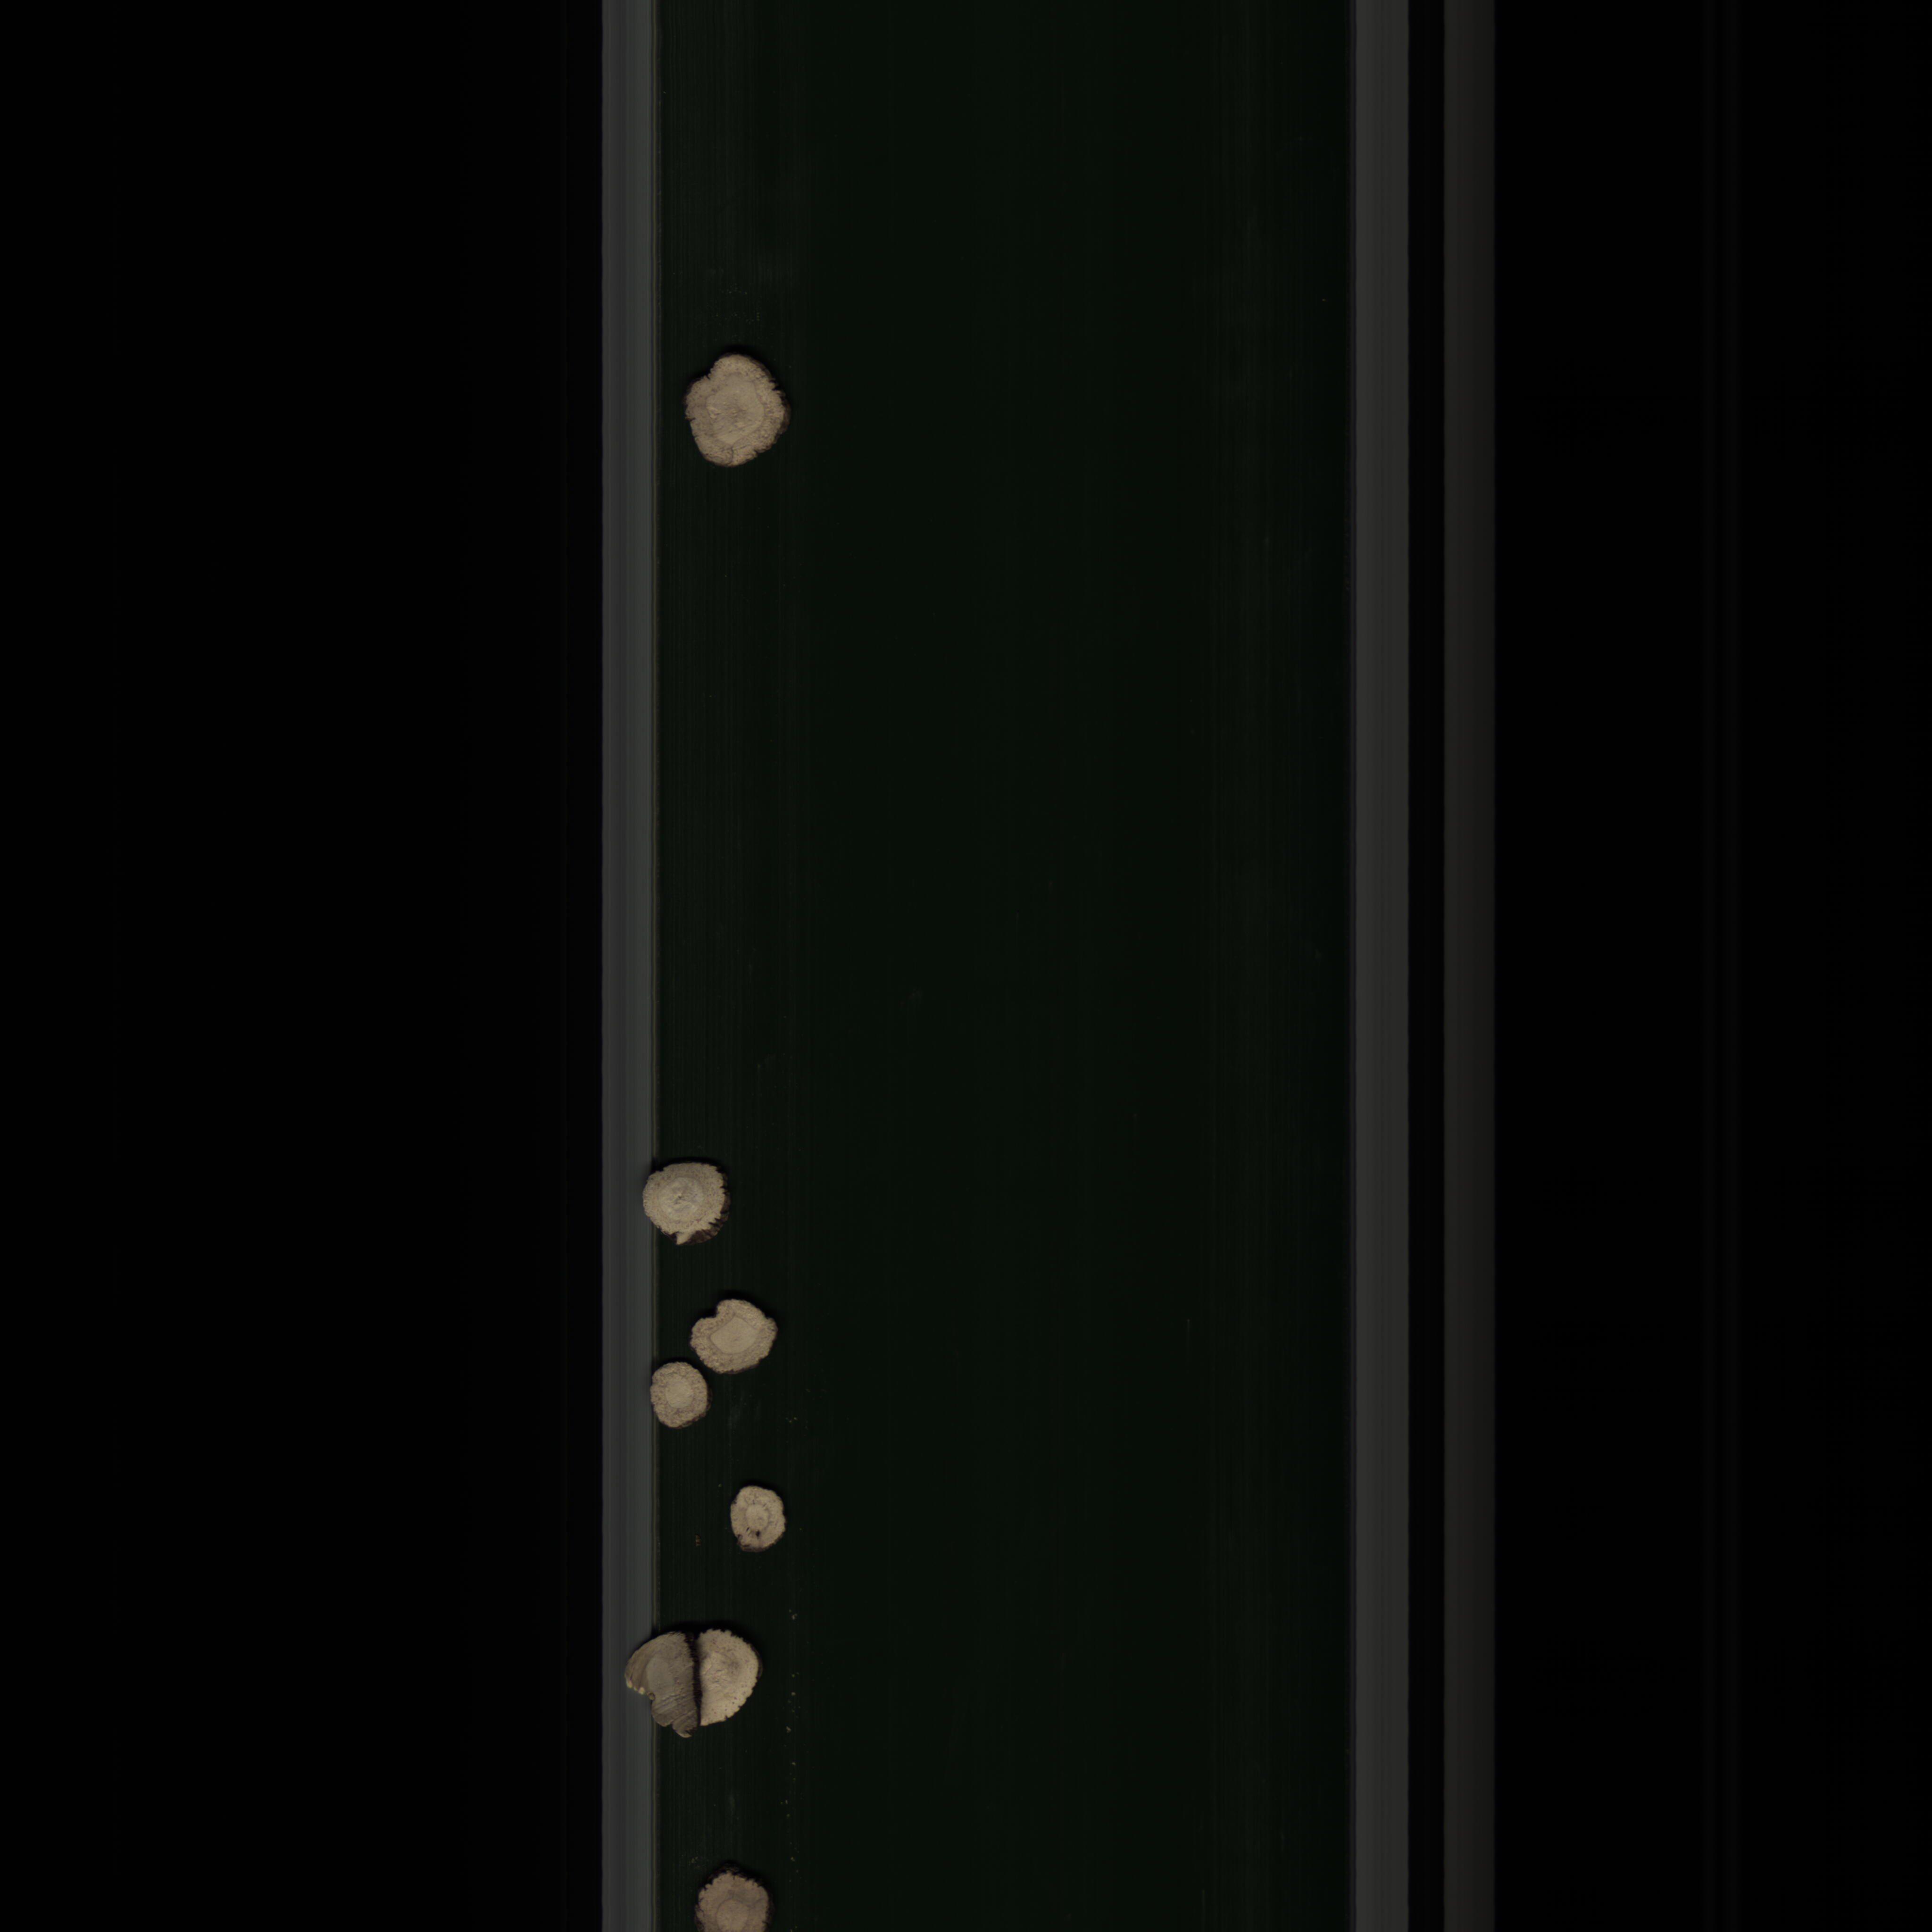debris: (699, 1606, 768, 1744)
hole: (711, 1479, 794, 1566)
moldy: (619, 1622, 702, 1753)
